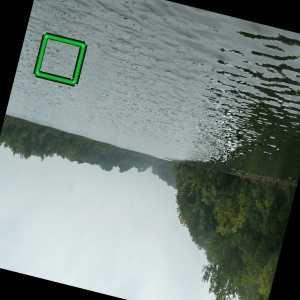square: (32, 30, 89, 88)
